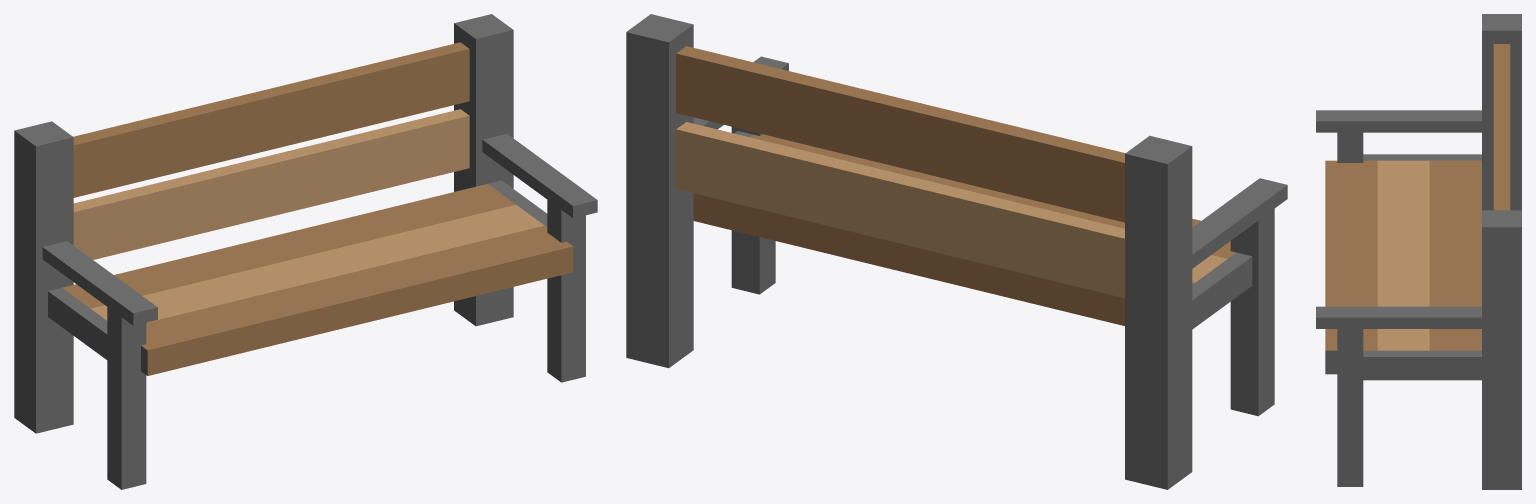
Rendered from SM_Bench.fbx.
3 views of the same model, side by side, from view 1: azimuth 30°, elevation 25°; view 2: azimuth 150°, elevation 25°; view 3: azimuth 270°, elevation 25° (orthographic). The views are drawn at different scales.
Visible parts, largest first — view 1: SM_Bench; view 2: SM_Bench; view 3: SM_Bench.
Boxes of the visible parts, box(x1,y1,x2,y2) form: SM_Bench: box(14, 14, 597, 489); SM_Bench: box(626, 14, 1287, 489); SM_Bench: box(1316, 14, 1521, 489).
Size of the model in its own units: 3.52 by 1.43 by 2.02.
